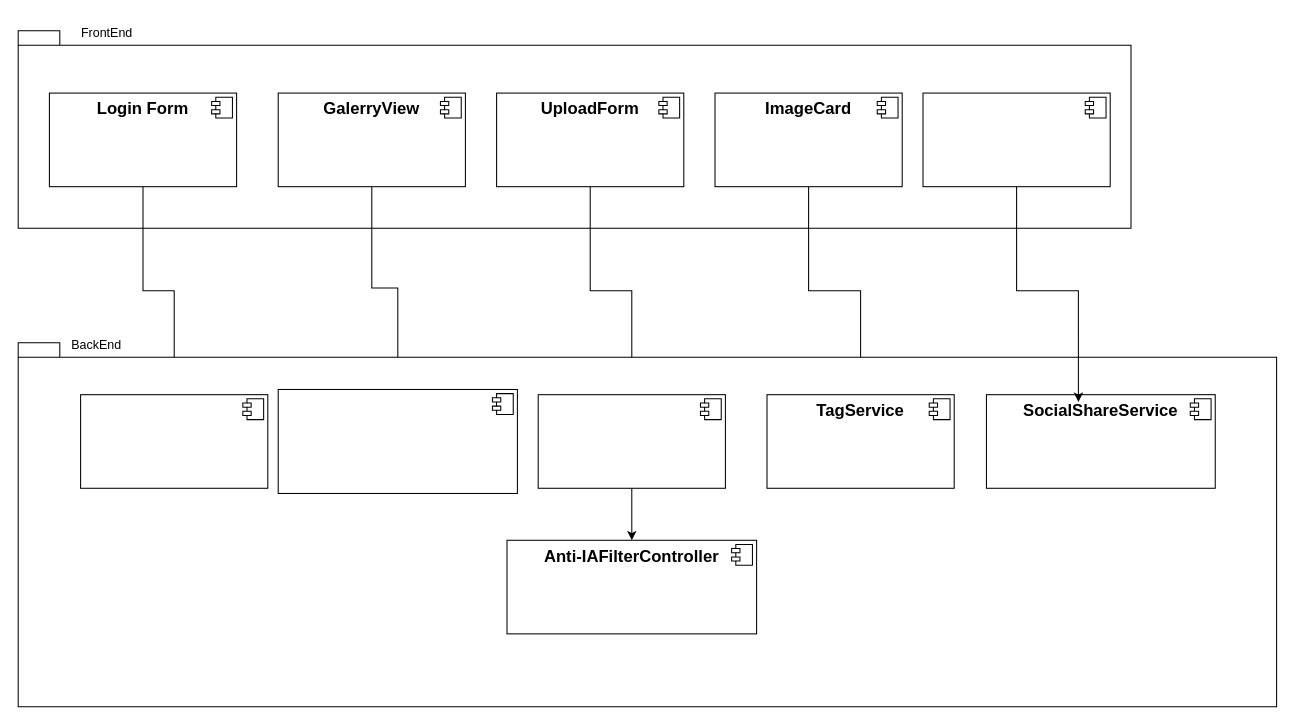
Some shapes in this 1295 by 725 pixel diagram are drawn without their labels. Here are the shapes that lost their labels. From the top down, the box of each, then its label:
(922, 92, 1110, 187): UserProfile
(80, 394, 268, 488): AuthController
(277, 388, 517, 493): PortfolioController
(537, 394, 725, 488): ImageController
